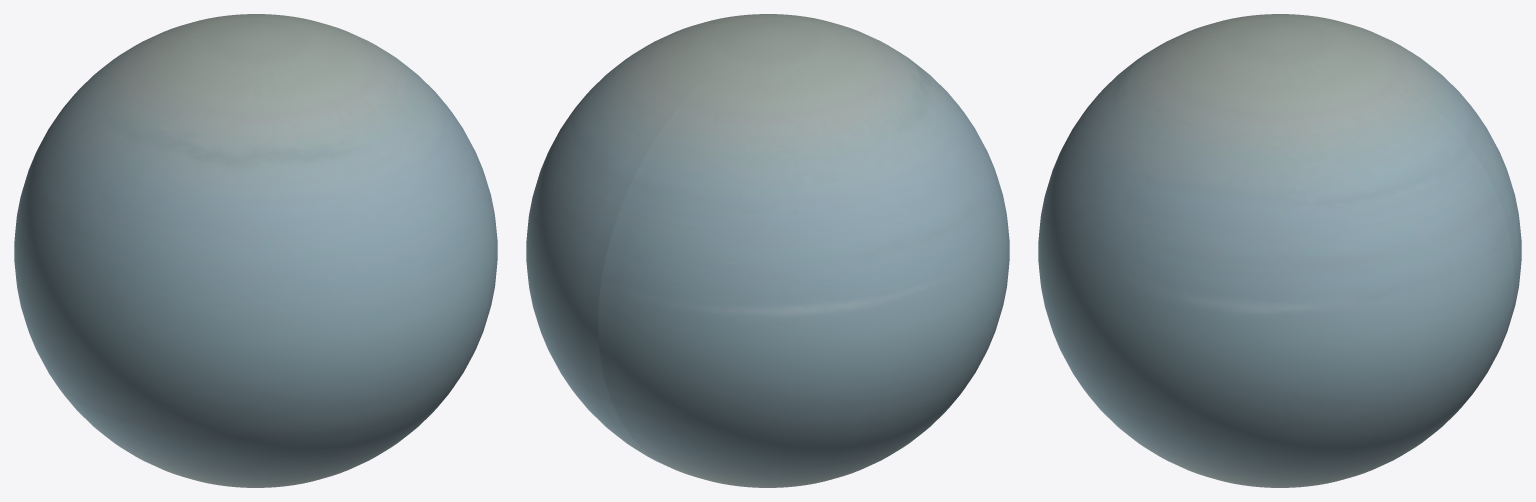
Rendered from Uranus.gltf.
The picture shows the model from 3 angles, left to right: view 1: azimuth 30°, elevation 25°; view 2: azimuth 150°, elevation 25°; view 3: azimuth 270°, elevation 25°; orthographic projection.
Parts seen in each view (by area): view 1: Uranus; view 2: Uranus; view 3: Uranus.
Boxes of the visible parts, bbox=[...] form: Uranus: bbox=[14, 14, 497, 487]; Uranus: bbox=[526, 14, 1009, 487]; Uranus: bbox=[1038, 14, 1521, 487].
Size of the model in its own units: 1000 by 977 by 1000.
1 material, 1 textured.
